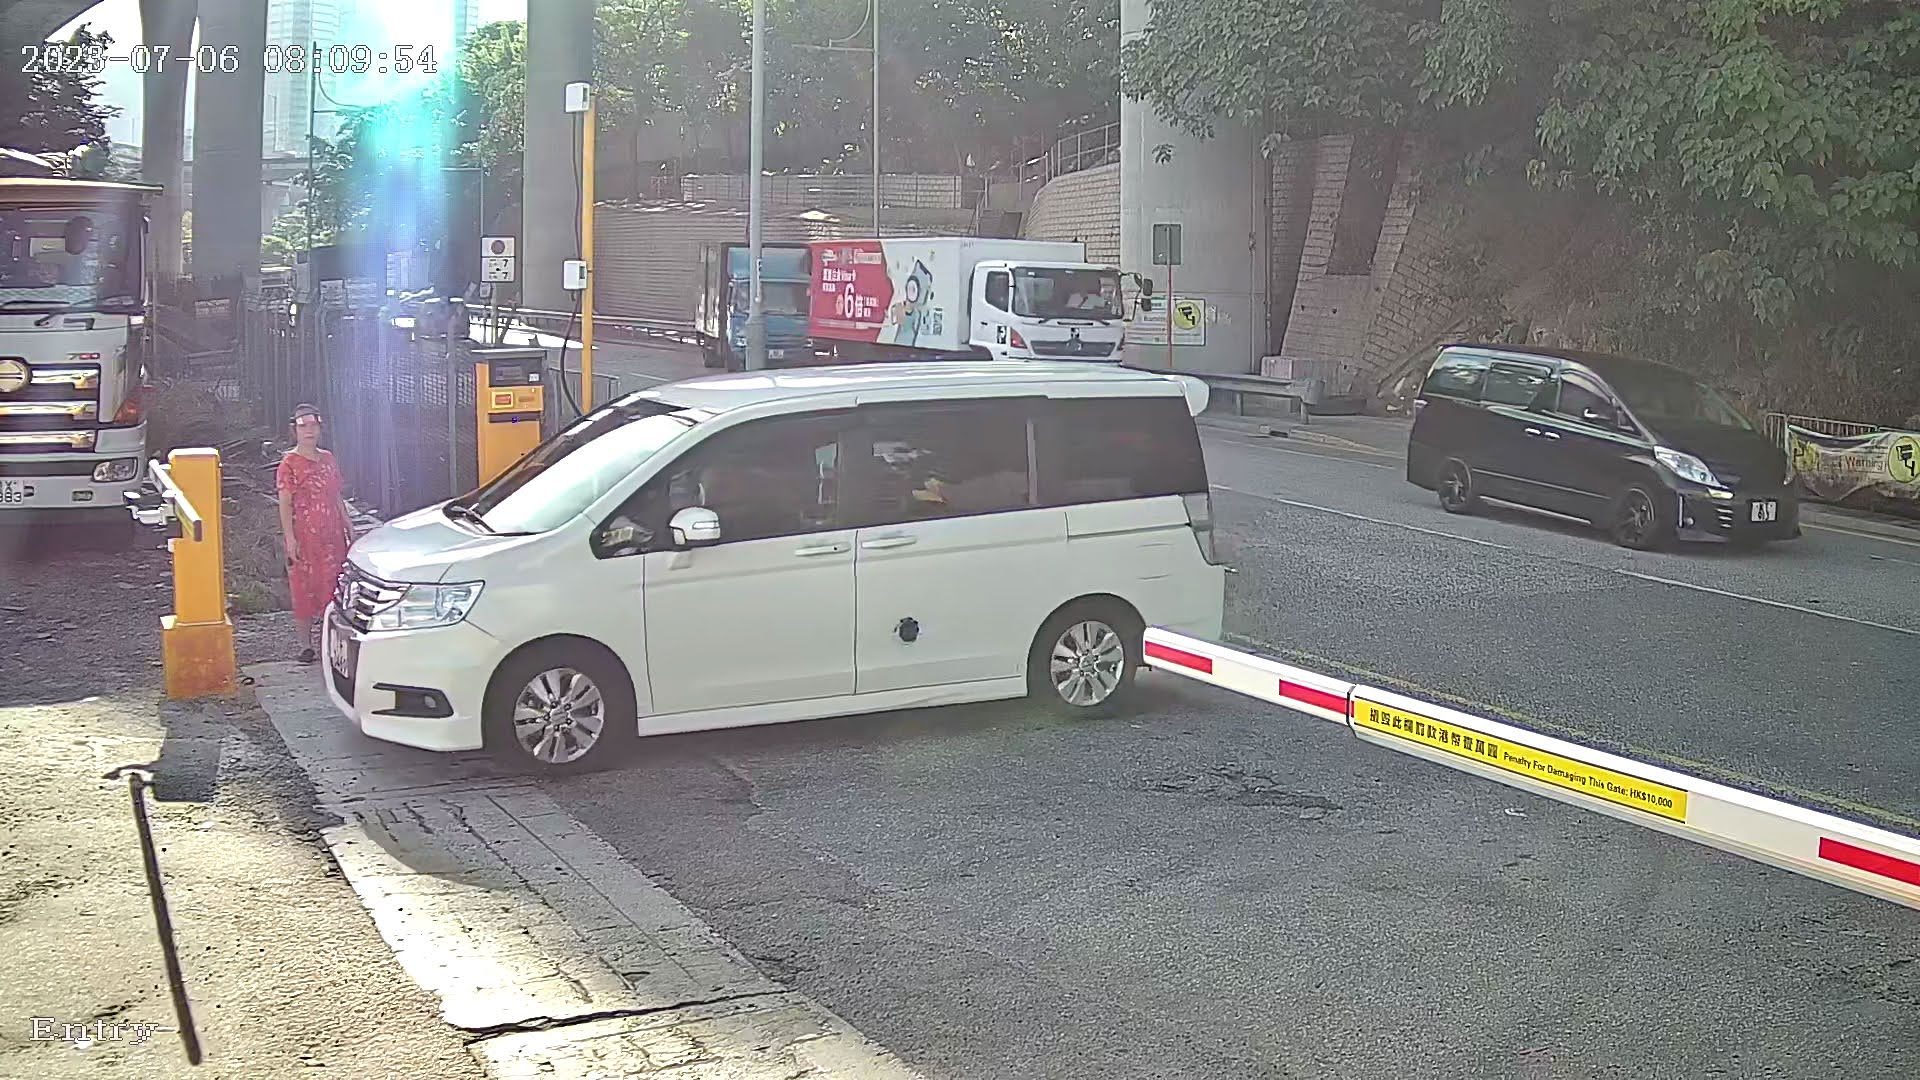privatecar: (305, 299, 1312, 789)
